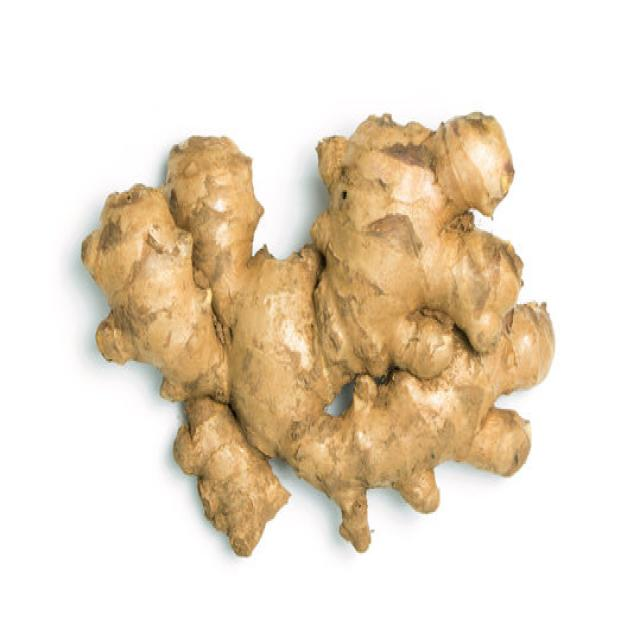Ginger: (80, 106, 554, 556)
